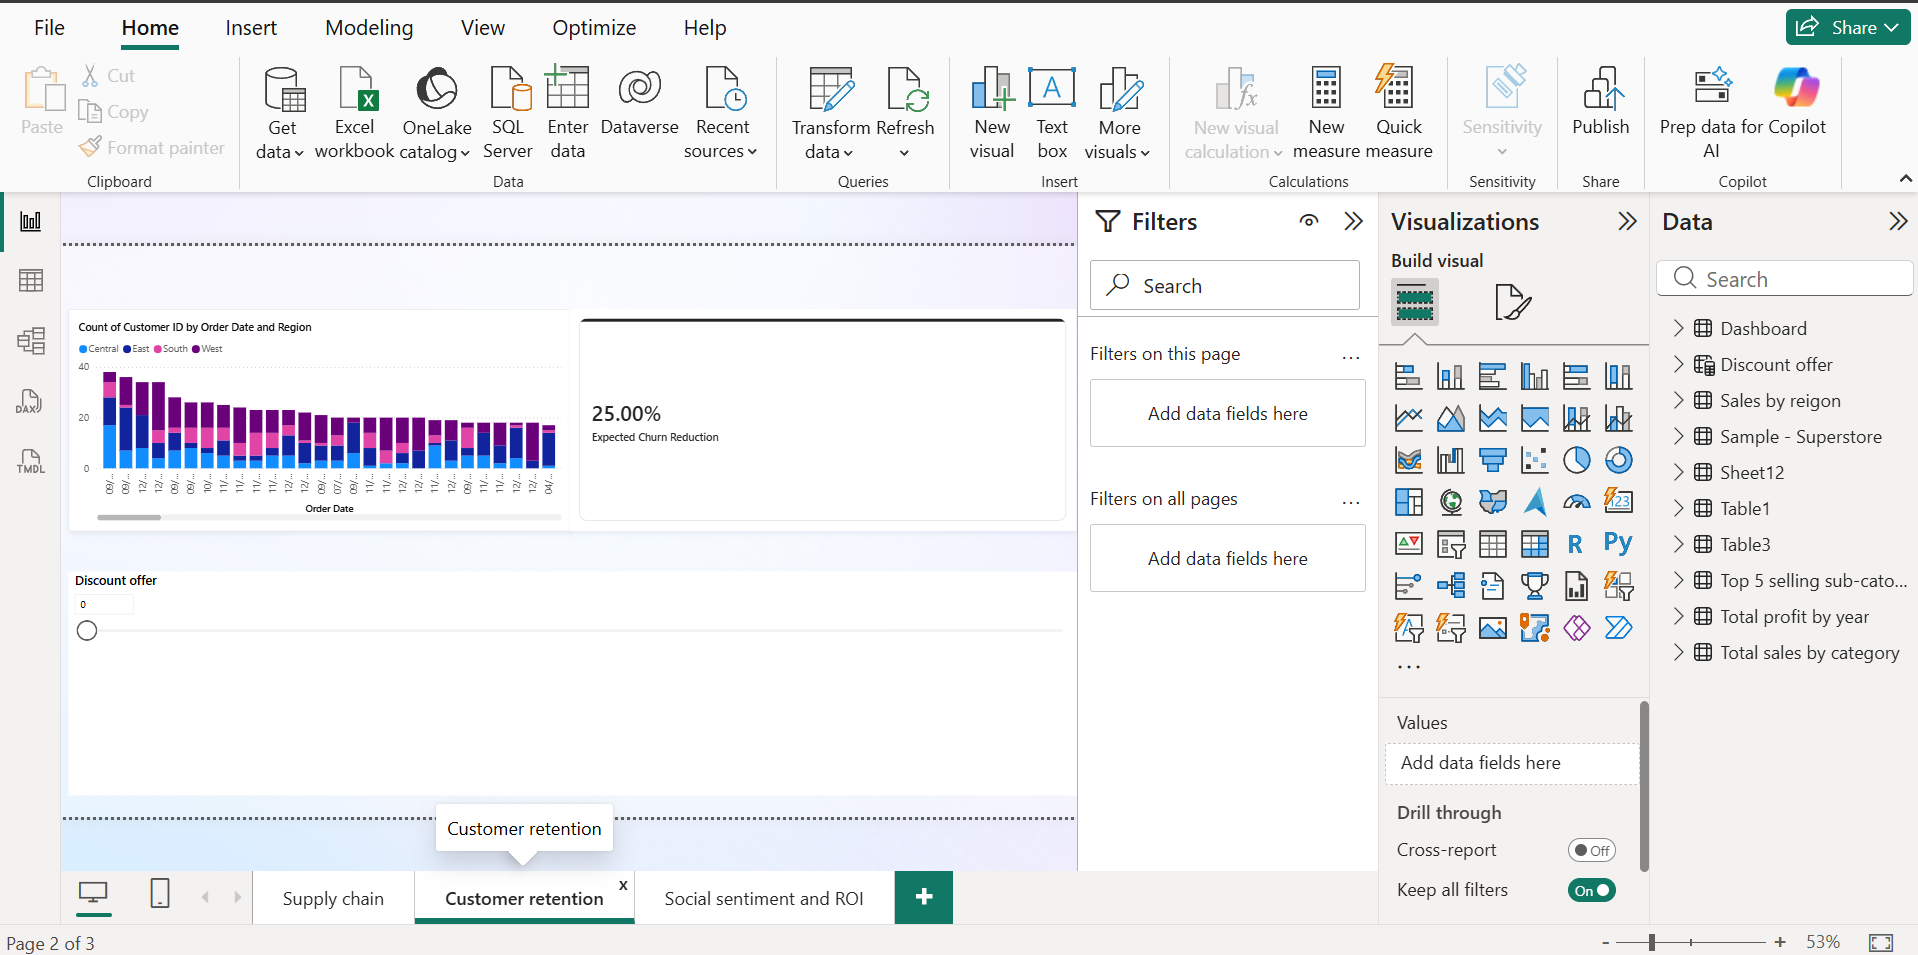

The page's visual inventory and layout, read from the dashboard file:
{"tool":"powerbi","page":{"name":"Customer retention","canvas":[1280,720],"ordinal":1},"visuals":[{"type":"columnChart","fields":{"Category":["Table1.Order Date"],"Series":["Table1.Region"],"Y":["CountNonNull(Table1.Customer ID)"]},"box":[9.4,79.4,635,279.7],"z":0},{"type":"slicer","fields":{"Values":["Discount offer.Discount offer"]},"box":[9.4,410.1,1269.9,281.6],"z":1000},{"type":"cardVisual","fields":{"Data":["Table1.Expected Churn Reduction"]},"box":[640.6,79.4,638.7,279.7],"z":2000}]}

Visuals, with their boxes on the page's 1280x720 design canvas (x1, y1, x2, y2). These are canvas units, not pixel positions in the 1918x955 screenshot, which may show the page scaled, cropped or inside an application window:
columnChart - Table1.Order Date x Table1.Region: pyautogui.locateOnScreen(9, 79, 644, 359)
slicer - Discount offer.Discount offer: pyautogui.locateOnScreen(9, 410, 1279, 692)
cardVisual - Table1.Expected Churn Reduction: pyautogui.locateOnScreen(641, 79, 1279, 359)
